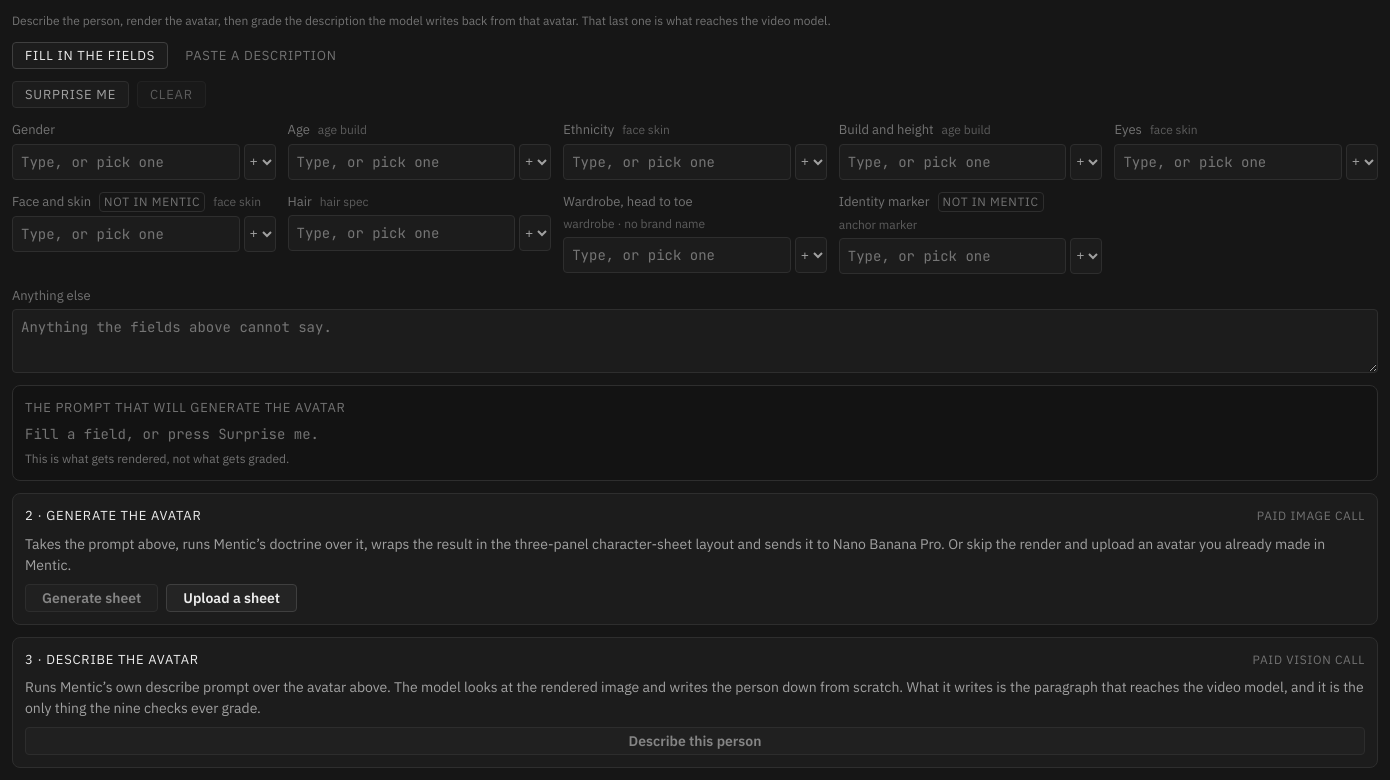
Test: AvatarComposer › hides makeup until gender is woman
Expected: the field labelled "Makeup" is not shown
In the field labelled "Gender": (126, 162) [12, 144, 240, 180], type "woman"
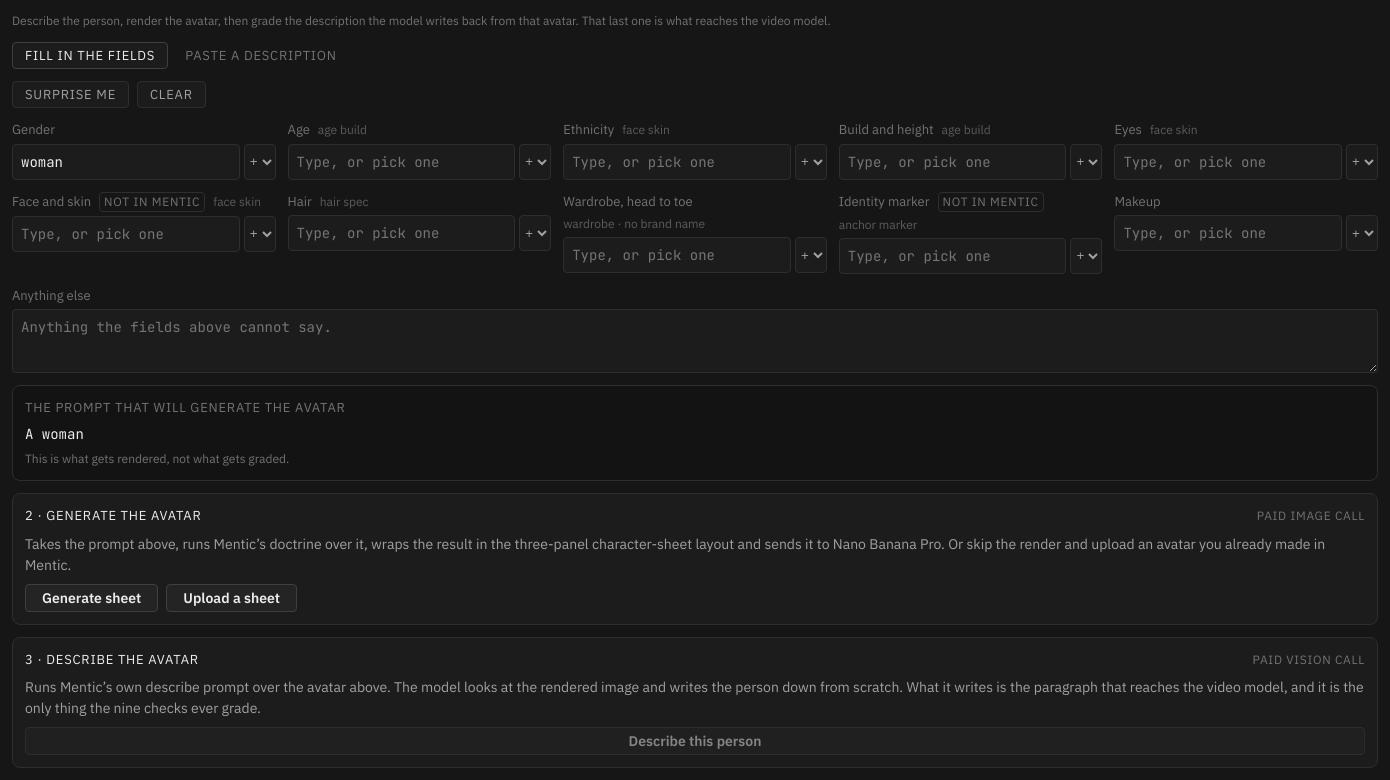
Expected: the field labelled "Makeup" is shown, [1114, 215, 1342, 251]
Replace the text in the field labelled "Gender" with "man": (126, 162) [12, 144, 240, 180]
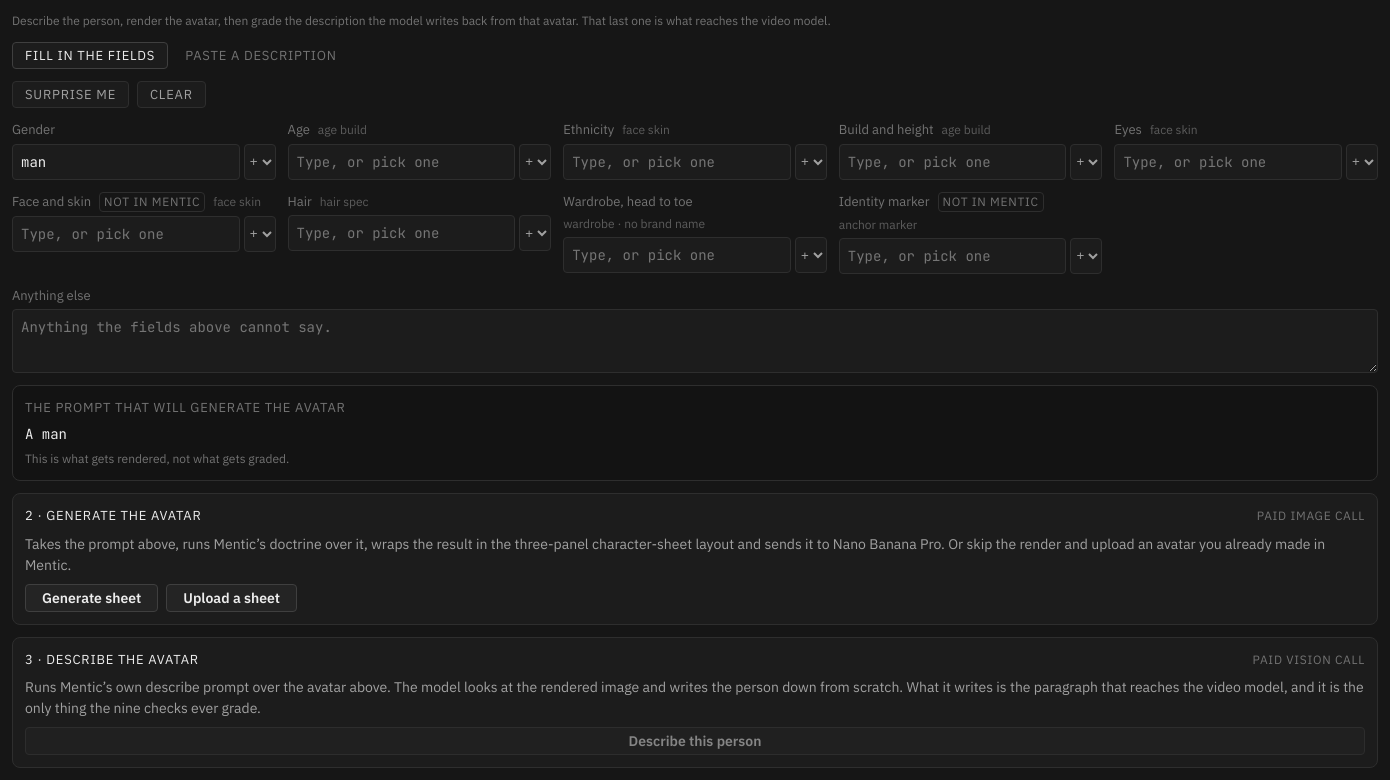
Expected: the label labelled "Makeup" is gone
